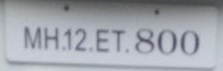character: (179, 29, 200, 56), (134, 28, 155, 54), (157, 28, 176, 56), (23, 25, 42, 50), (43, 25, 59, 50), (110, 28, 125, 53), (95, 28, 110, 52), (73, 27, 87, 51), (63, 28, 72, 52)
